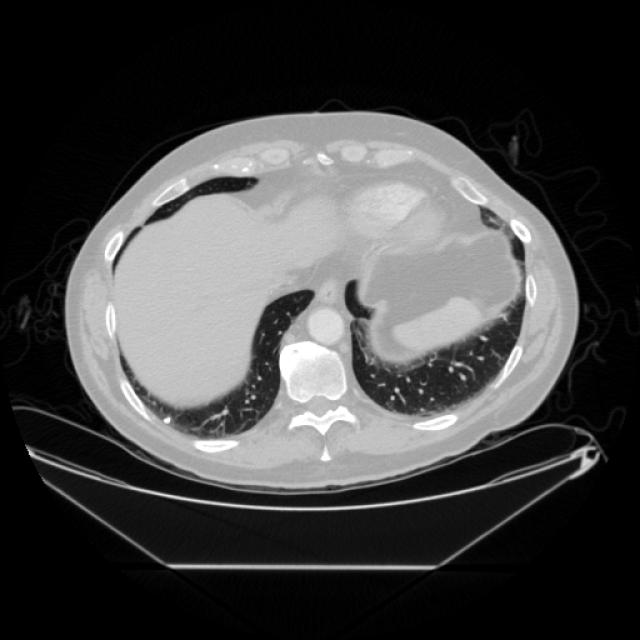nodule: (157, 411, 175, 429)
